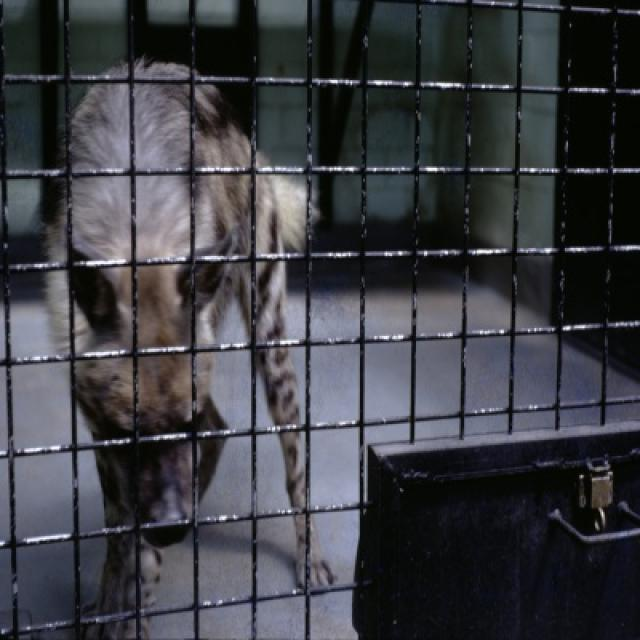hyena: (61, 61, 333, 638)
